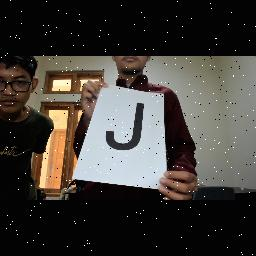j: (101, 94, 155, 158)
